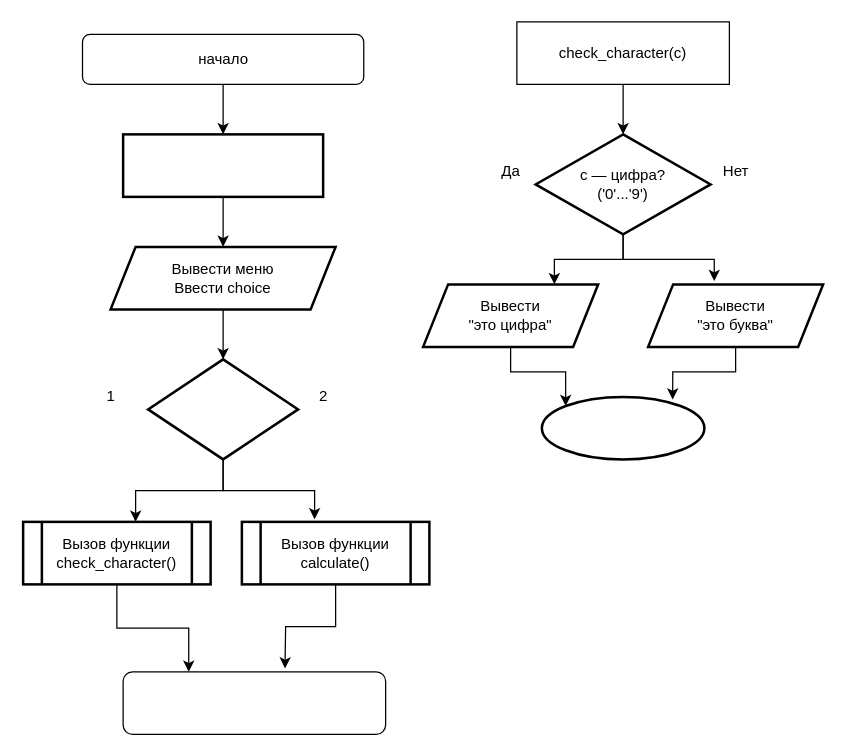
The diagram is 845 pixels wide and 756 high, and some of its shapes have lost their labels. Here are the shapes that lost their labels. From the top down, the centre of each, then its label:
At (222,165): "Установить локализацию".
At (222,409): "Выбор choice".
At (622,427): "Возврат".
At (254,702): "конец".
